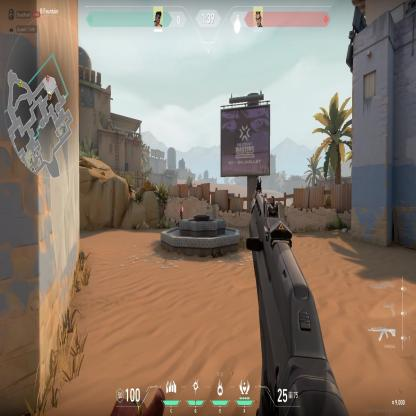enemy: (177, 202, 185, 219)
